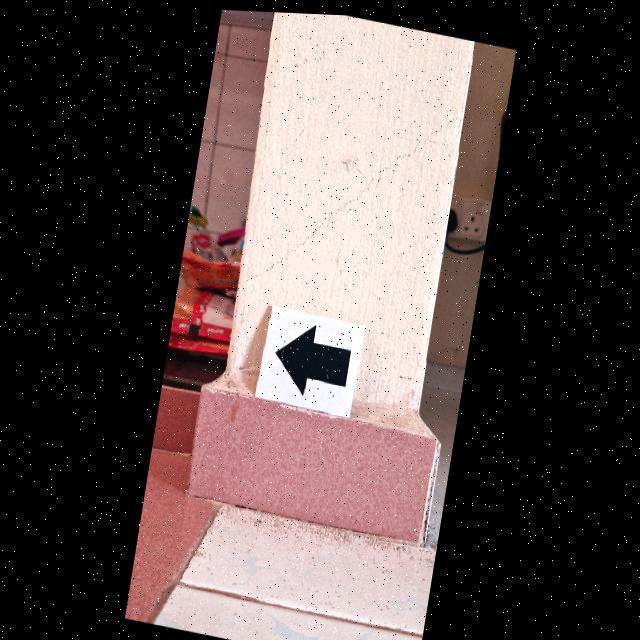LEFT: (275, 323, 350, 392)
